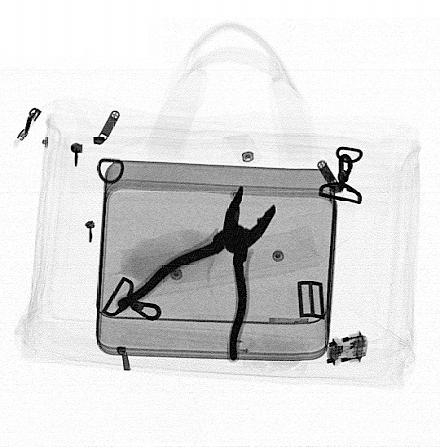Pliers: (115, 184, 279, 362)
